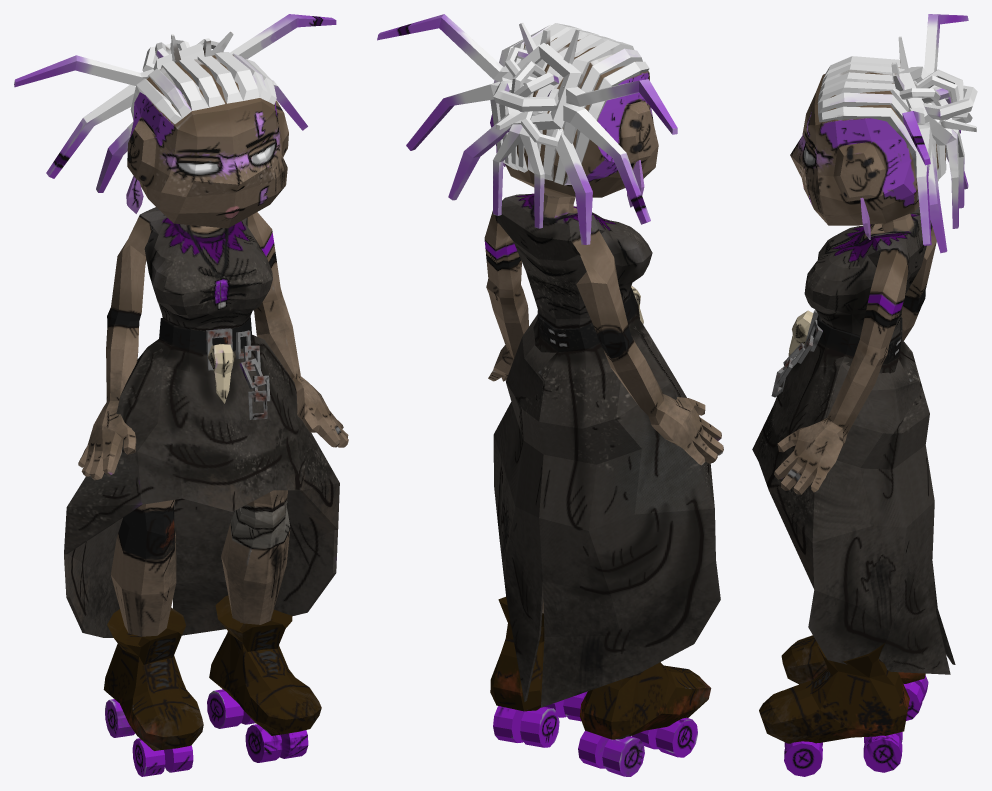
The model's file is bruja_000054.obj.
3 views of the same model, side by side, from view 1: azimuth 30°, elevation 25°; view 2: azimuth 150°, elevation 25°; view 3: azimuth 270°, elevation 25° (orthographic). The views are drawn at different scales.
Parts seen in each view (by area): view 1: Bruja_Plane.001; view 2: Bruja_Plane.001; view 3: Bruja_Plane.001.
Boxes of the visible parts, x1,y1,x2,y2 form: Bruja_Plane.001: (14, 14, 348, 776); Bruja_Plane.001: (377, 14, 723, 776); Bruja_Plane.001: (752, 14, 977, 776).
Size of the model in its own units: 7.43 by 16.49 by 4.8.
